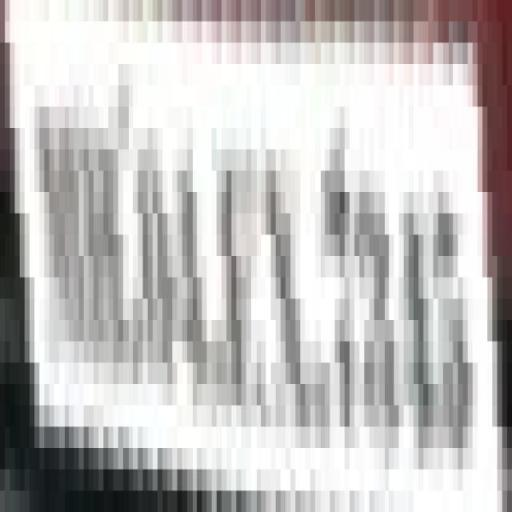number plate: (25, 21, 507, 491)
